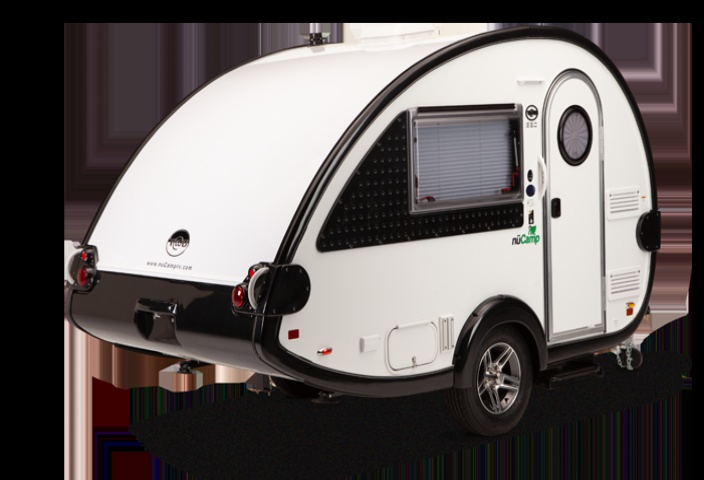van: (47, 27, 680, 431)
